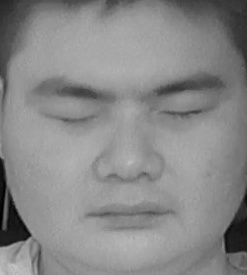blink: (49, 100, 101, 134), (156, 97, 207, 131)
mouth: (86, 189, 177, 237)
